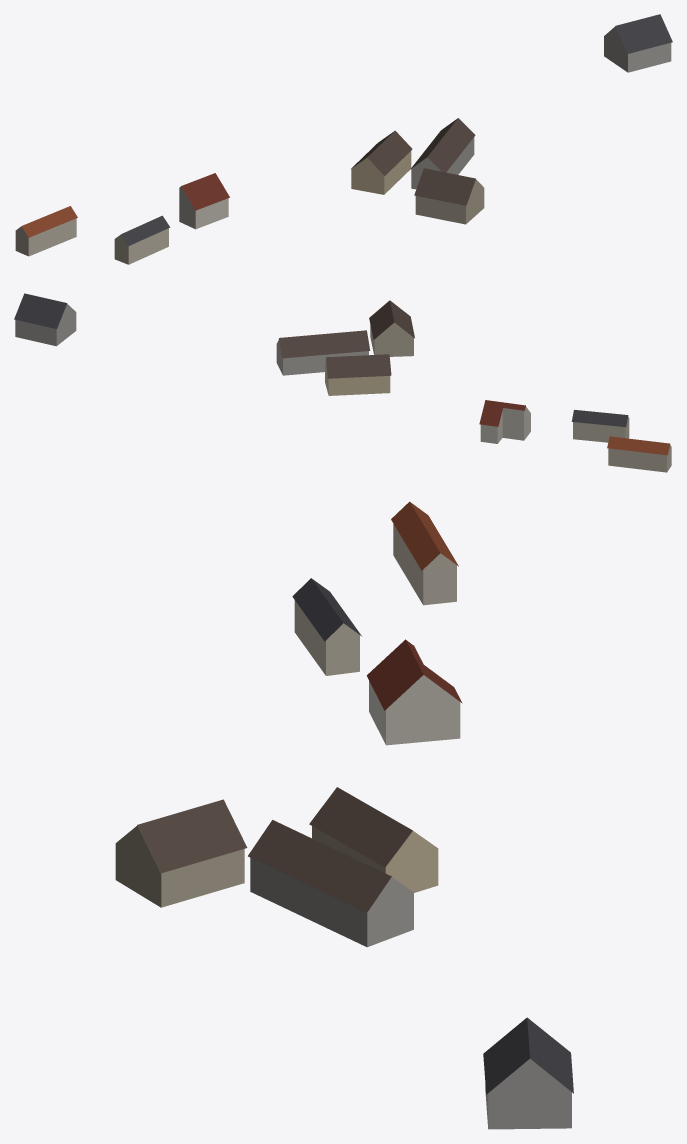
3 views of the same model, one above another, from view 1: azimuth 30°, elevation 25°; view 2: azimuth 150°, elevation 25°; view 3: azimuth 270°, elevation 25° (orthographic). The views are drawn at different scales.
Parts seen in each view (by area): view 1: buildings; view 2: buildings; view 3: buildings.
Part boxes in pixels (<box>): buildings: <box>15,14,672,264</box>; buildings: <box>14,293,671,472</box>; buildings: <box>115,501,573,1129</box>.
Size of the model in its own units: 213 by 17.83 by 68.82.
